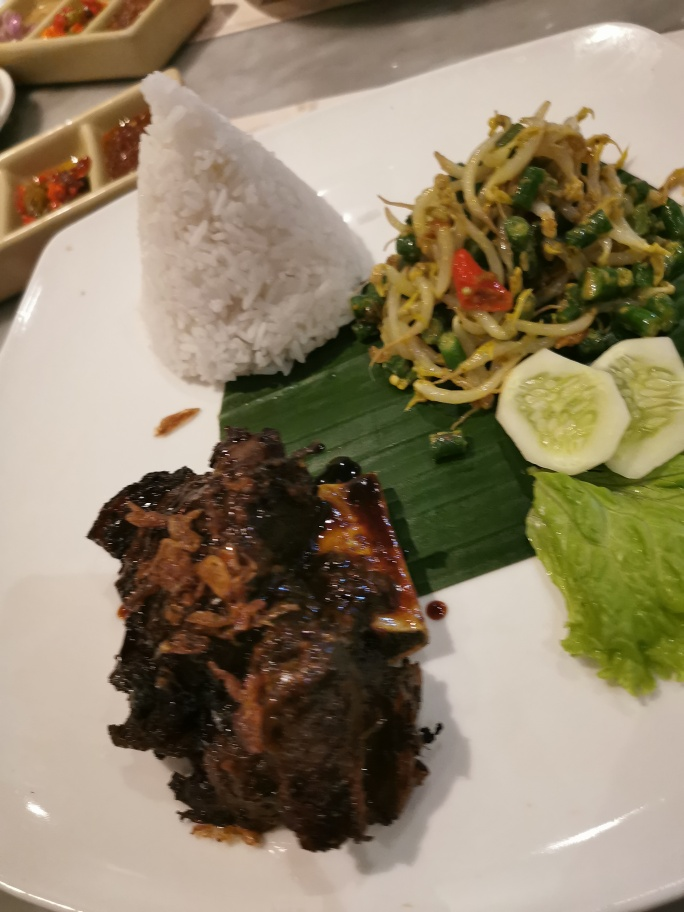iga bakar: (98, 425, 426, 853)
nasi putih: (110, 69, 370, 382)
